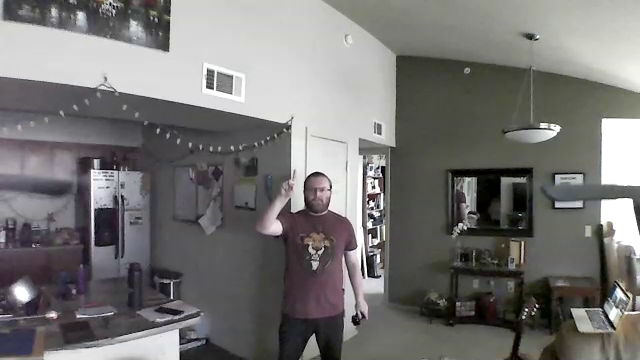up: (275, 167, 303, 197)
